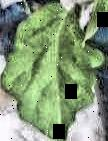HEALTHY: (1, 1, 108, 141)
